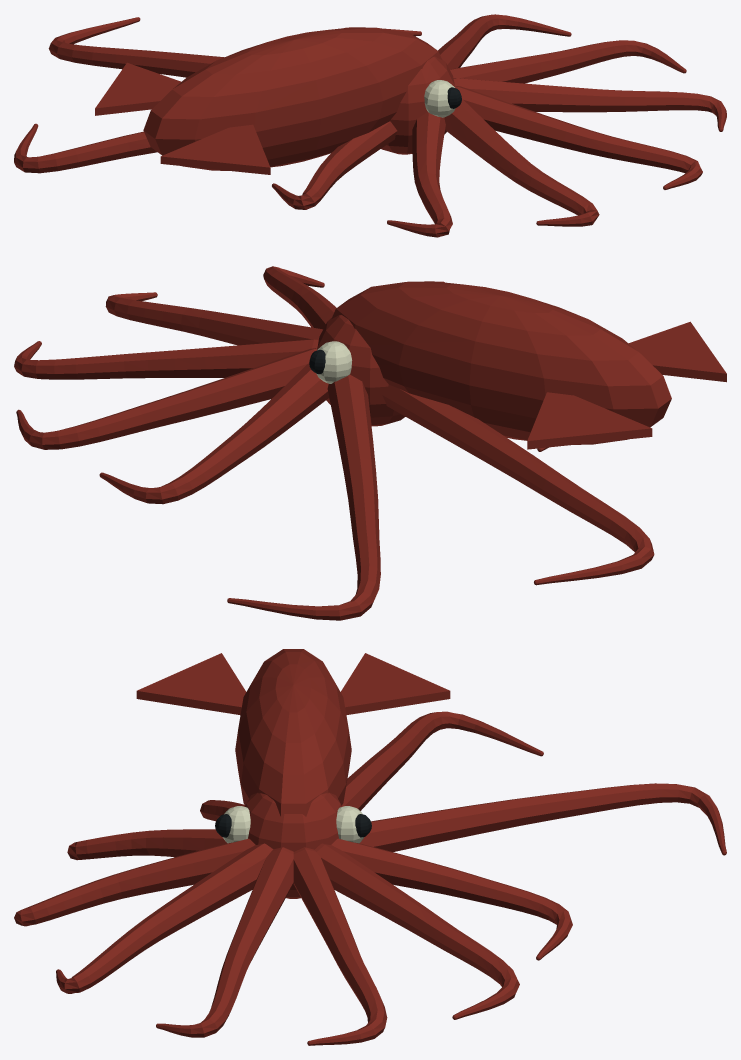
The model's file is giant-squid.dae.
3 renders of one model, top to bottom at view 1: azimuth 30°, elevation 25°; view 2: azimuth 150°, elevation 25°; view 3: azimuth 270°, elevation 25°, orthographic. The views are drawn at different scales.
Parts seen in each view (by area): view 1: part2-node, part1-node; view 2: part2-node, part1-node; view 3: part2-node, part1-node, part0-node.
Part boxes in pixels (x1=…): part2-node: x1=14, y1=14, x2=726, y2=237; part1-node: x1=424, y1=80, x2=455, y2=117; part2-node: x1=14, y1=266, x2=726, y2=620; part1-node: x1=316, y1=341, x2=352, y2=383; part2-node: x1=14, y1=649, x2=726, y2=1045; part1-node: x1=222, y1=806, x2=364, y2=843; part0-node: x1=215, y1=814, x2=371, y2=837.
Size of the model in its own units: 8 by 7.49 by 1.74.
